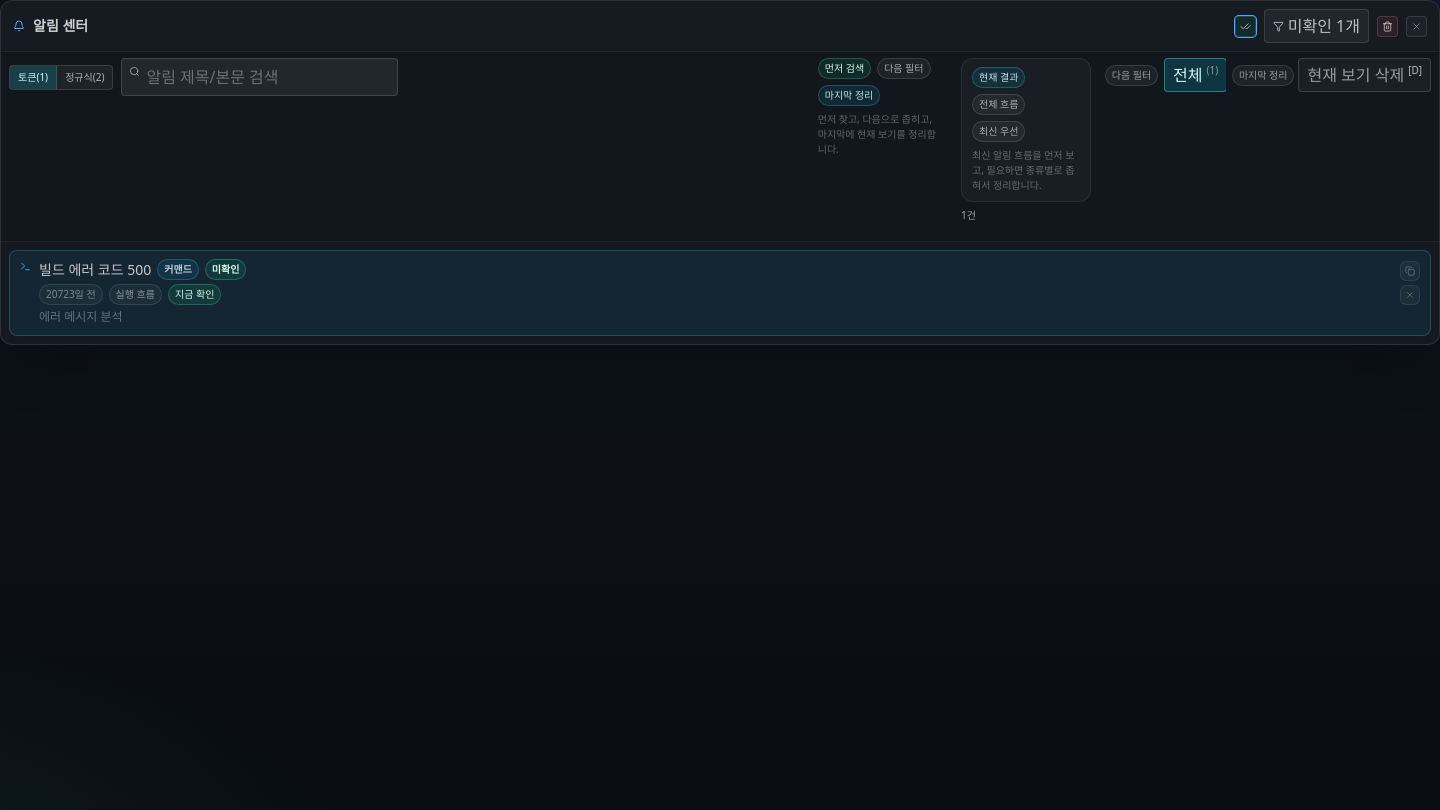
Test case: NotificationCenter › 개별 검색 기록은 항목별로 삭제할 수 있다
Focus the field named "알림 검색" at (260, 77), box x1=122 y1=58 x2=398 y2=96
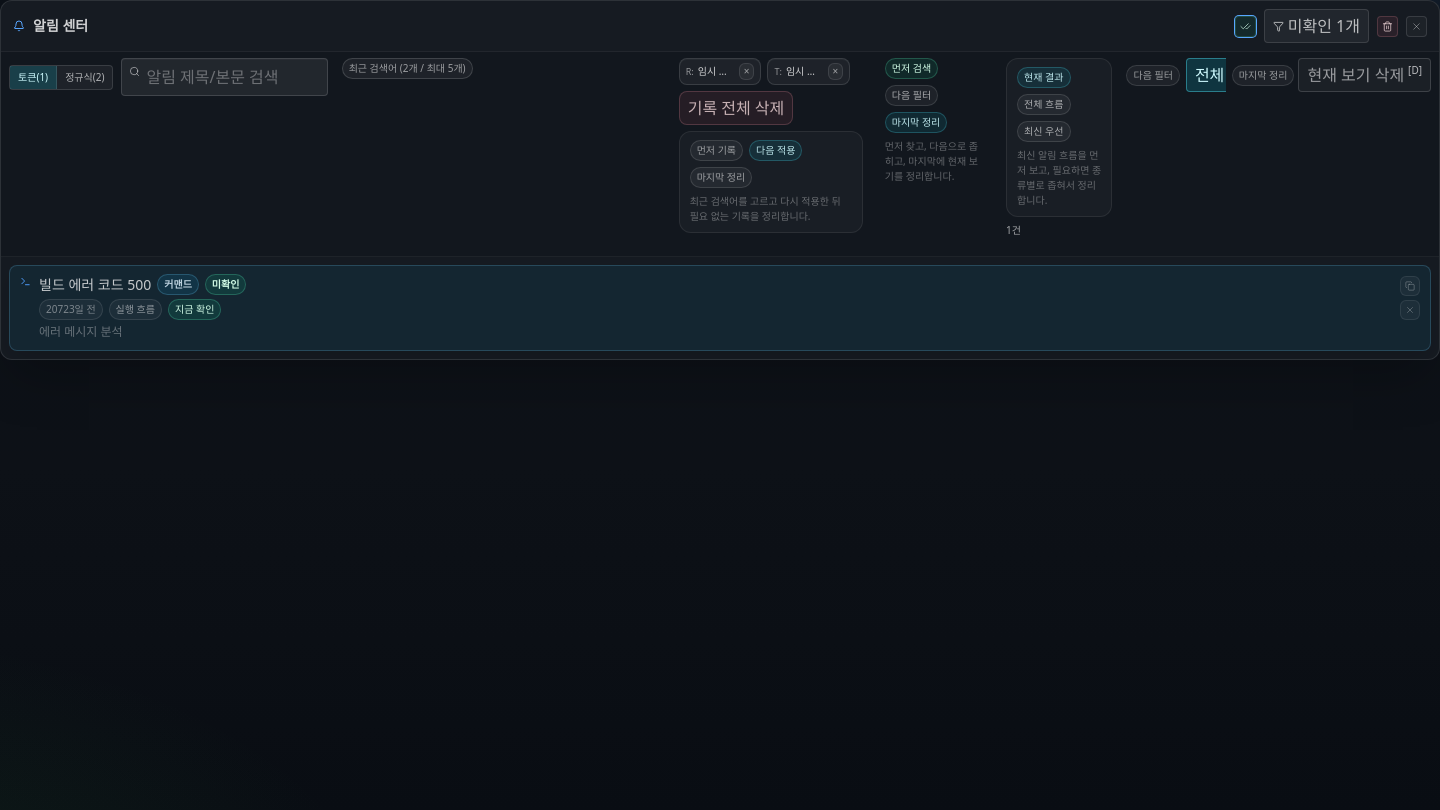
Result: the text "임시 검색어 1" is shown at x1=786 y1=64 x2=824 y2=79
Result: the text "임시 검색어 2" is shown at x1=698 y1=64 x2=735 y2=79
Click the button named "최근 검색어 임시 검색어 1 삭제".
click(835, 72)  # box x1=828 y1=63 x2=843 y2=80
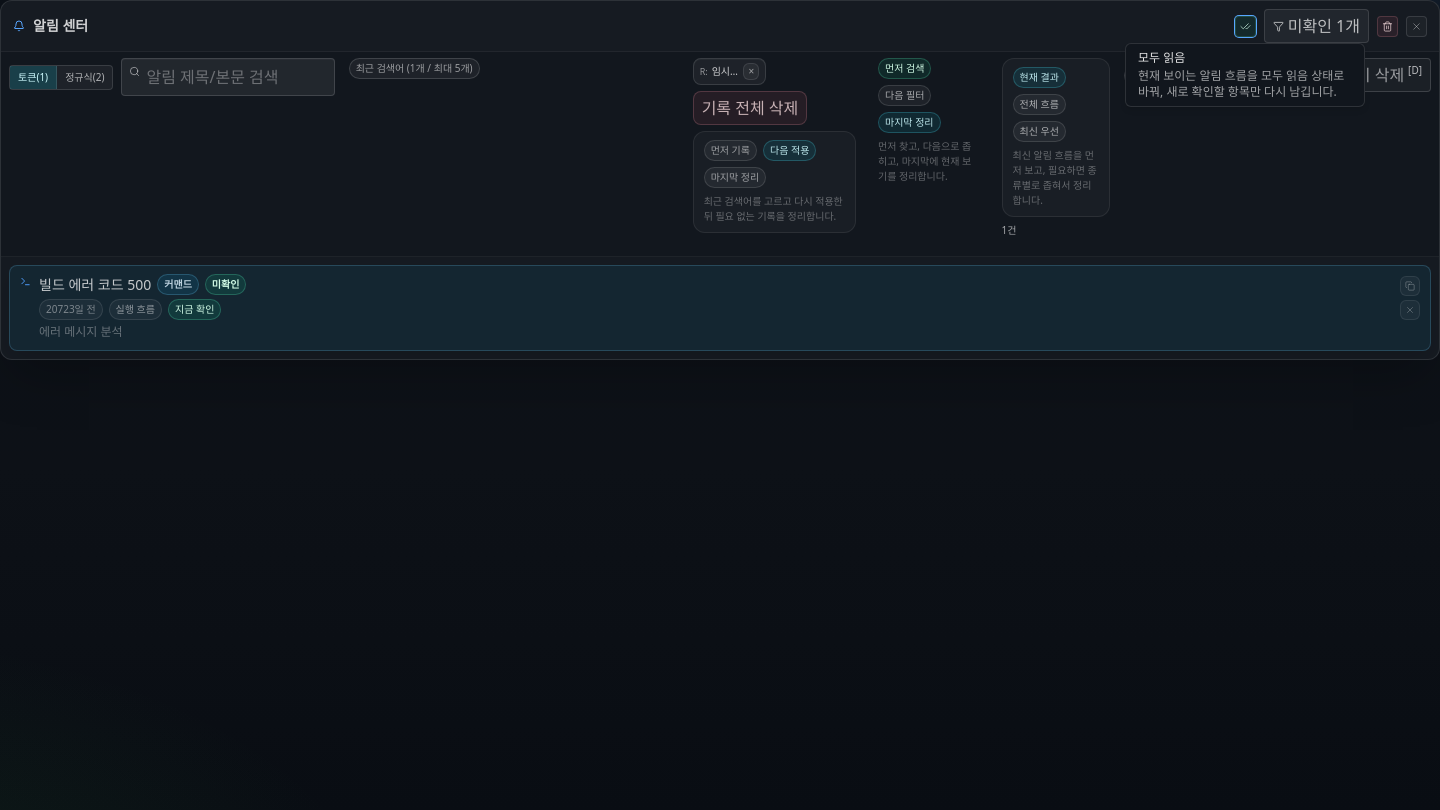
Result: the text "임시 검색어 2" is shown at x1=712 y1=64 x2=739 y2=79
Result: the button "임시 검색어 1" is gone
